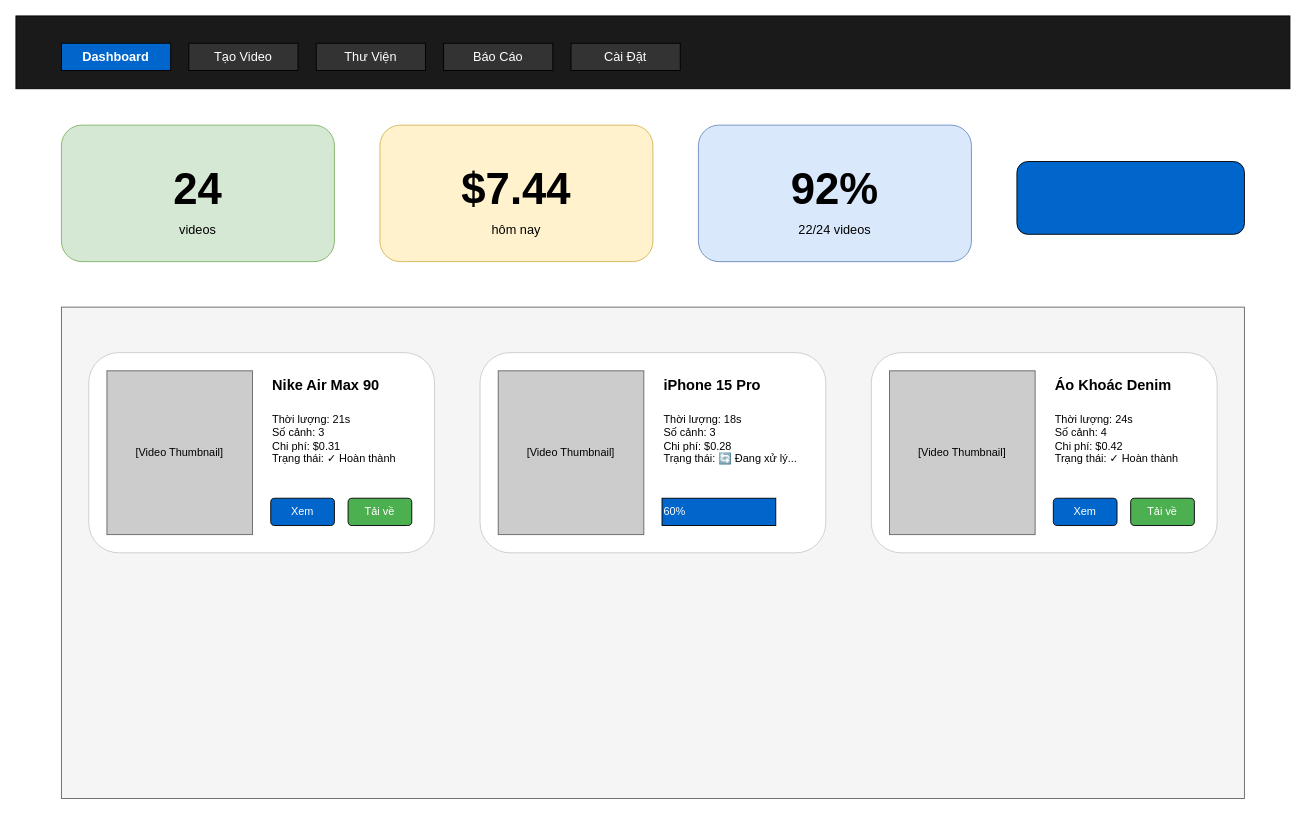
Some shapes in this 1306 by 814 pixel diagram are drawn without their labels. The box of each missing label's shape, as (x1, y1, x2, y2) in pixels:
+ TẠO VIDEO MỚI: (1016, 161, 1244, 234)
TikTok Video Automation System: (15, 15, 1290, 89)
Tổng Chi Phí: (379, 124, 653, 262)
Tỷ Lệ Thành Công: (698, 124, 971, 262)
Video Hôm Nay: (61, 124, 334, 262)
Videos Gần Đây: (61, 306, 1244, 799)
